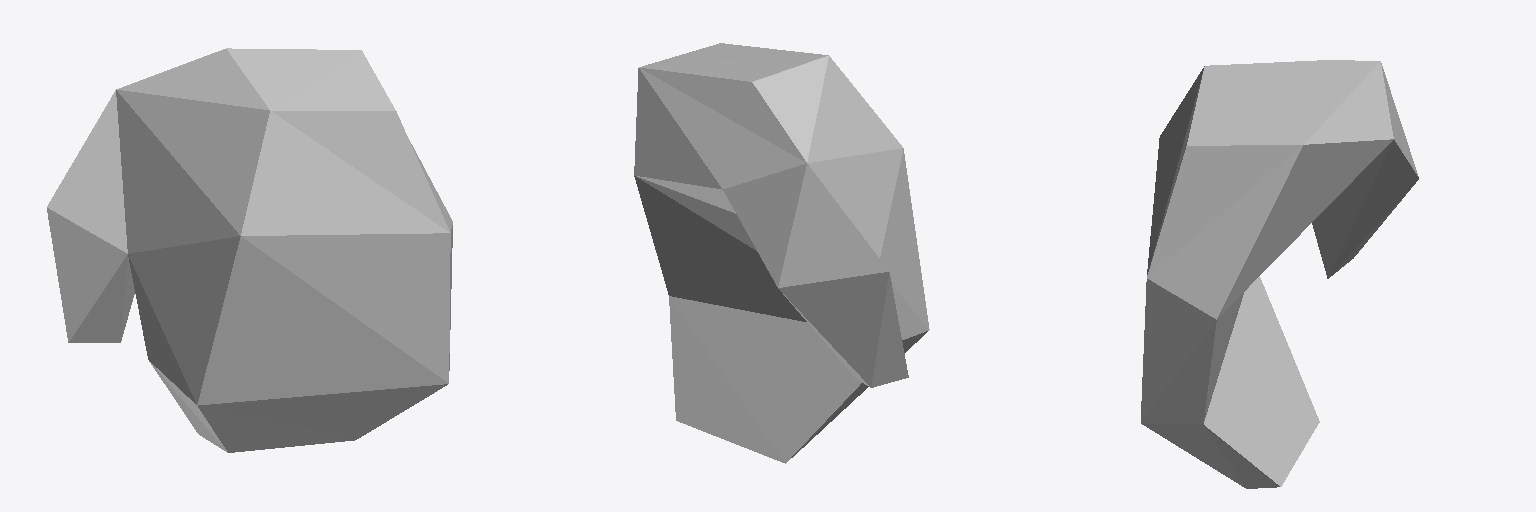
The model's file is Mano1.obj.
The picture shows the model from 3 angles: view 1: azimuth 30°, elevation 25°; view 2: azimuth 150°, elevation 25°; view 3: azimuth 270°, elevation 25°; orthographic projection.
Parts seen in each view (by area): view 1: Mano1:polySurface3polySurface2pasted__ob_0601D8F8group; view 2: Mano1:polySurface3polySurface2pasted__ob_0601D8F8group; view 3: Mano1:polySurface3polySurface2pasted__ob_0601D8F8group.
Part boxes in pixels (x1,y1,x2,y2): Mano1:polySurface3polySurface2pasted__ob_0601D8F8group: (47,48,452,452); Mano1:polySurface3polySurface2pasted__ob_0601D8F8group: (634,43,929,463); Mano1:polySurface3polySurface2pasted__ob_0601D8F8group: (1141,60,1418,488).
Size of the model in its own units: 0.2131 by 0.2368 by 0.1555.